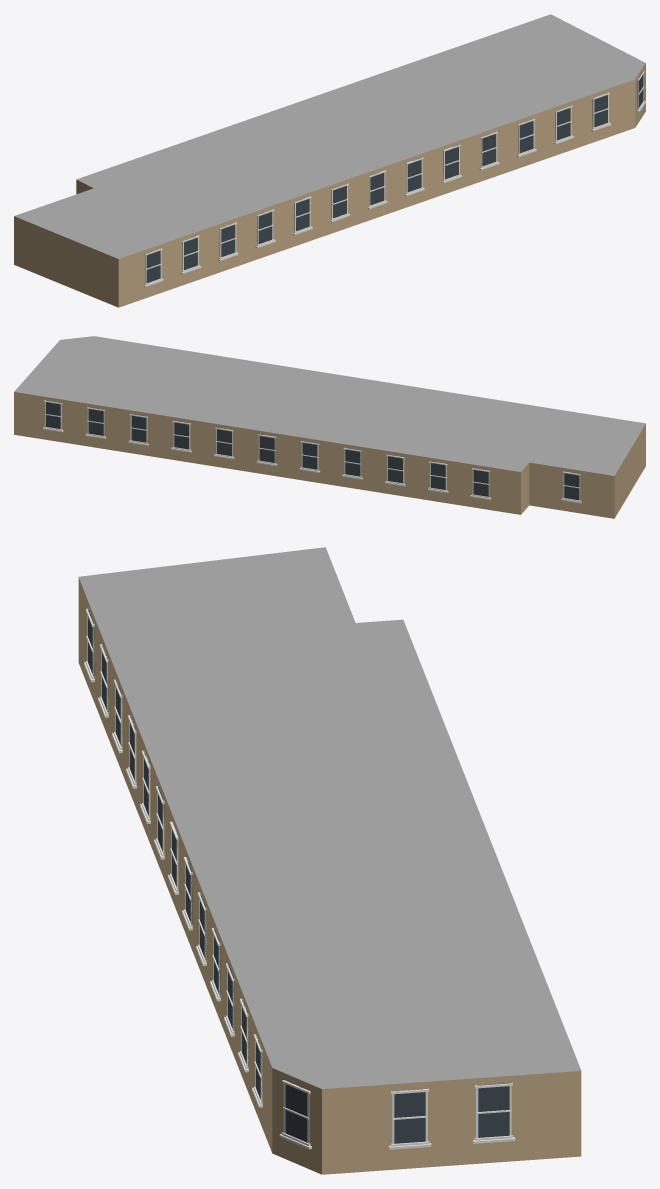
File: level-3.glb
3 views of the same model, one above another, from view 1: azimuth 30°, elevation 25°; view 2: azimuth 150°, elevation 25°; view 3: azimuth 270°, elevation 25° (orthographic). The views are drawn at different scales.
Visible parts, largest first — view 1: building, facade; view 2: building, facade; view 3: building, facade.
Part boxes in pixels (<box>): building: <box>14,14,645,307</box>; facade: <box>144,70,645,287</box>; building: <box>14,336,645,518</box>; facade: <box>43,400,581,503</box>; building: <box>78,547,581,1174</box>; facade: <box>84,608,515,1149</box>.
Size of the model in its own units: 40.71 by 3 by 15.97.
